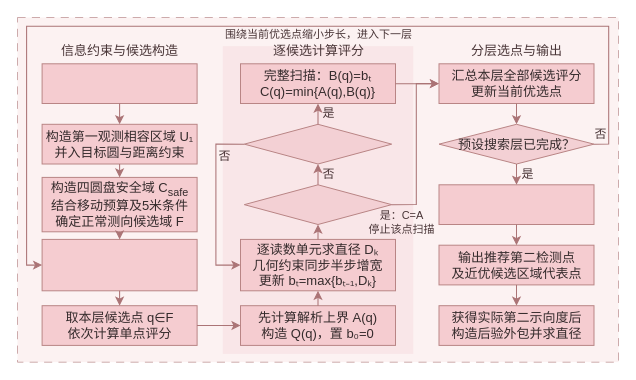
Some shapes in this 636 by 380 pixel diagram are drawn without their labels. The shapes that lost their labels are listed below. From the top down, each one's centre as x and y in pixels, then its label:
At (x=119, y=83): "第一检测点与第一示向度 误差界、移动预算 L".
At (x=317, y=143): "全部单元已扫描？".
At (x=317, y=204): "bₜ≥A(q)？".
At (x=516, y=204): "按0.1°读数网格统一精度 复核全部已访问候选".
At (x=119, y=264): "按本层步长生成候选点 保留旧点，补充镜像点 与安全边界点".
